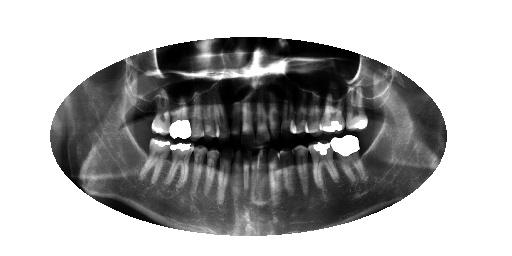i10decay: (232, 146, 242, 206)
i11decay: (220, 148, 230, 204)
i12healthy: (204, 146, 220, 202)
i13healthy: (191, 143, 206, 197)
i14healthy: (166, 140, 193, 189)
i15healthy: (141, 137, 170, 184)
i16loss: (130, 136, 148, 177)
i1loss: (363, 131, 382, 180)
i2healthy: (331, 133, 361, 191)
i3healthy: (311, 138, 335, 193)
i4decay: (295, 140, 309, 205)
i5decay: (280, 145, 295, 203)
i6decay: (269, 146, 280, 211)
i7decay: (260, 149, 269, 209)
i8decay: (250, 152, 257, 205)
i9decay: (244, 147, 250, 202)
u10decay: (231, 97, 243, 147)
u11decay: (217, 96, 229, 142)
u12decay: (206, 92, 215, 145)
u13decay: (193, 97, 205, 144)
u14healthy: (170, 102, 192, 139)
u15healthy: (151, 96, 169, 138)
u16loss: (131, 98, 151, 136)
u1loss: (368, 92, 384, 131)
u2healthy: (345, 92, 367, 137)
u3healthy: (320, 94, 346, 134)
u4healthy: (305, 98, 326, 135)
u5healthy: (292, 98, 308, 137)
u6decay: (282, 98, 294, 138)
u7decay: (269, 98, 282, 143)
u8decay: (257, 99, 269, 142)
u9decay: (243, 97, 255, 155)
